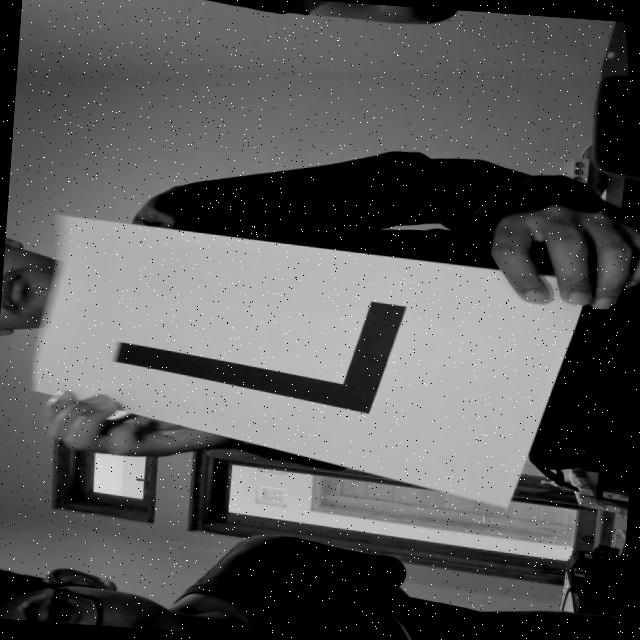l: (107, 267, 417, 417)
